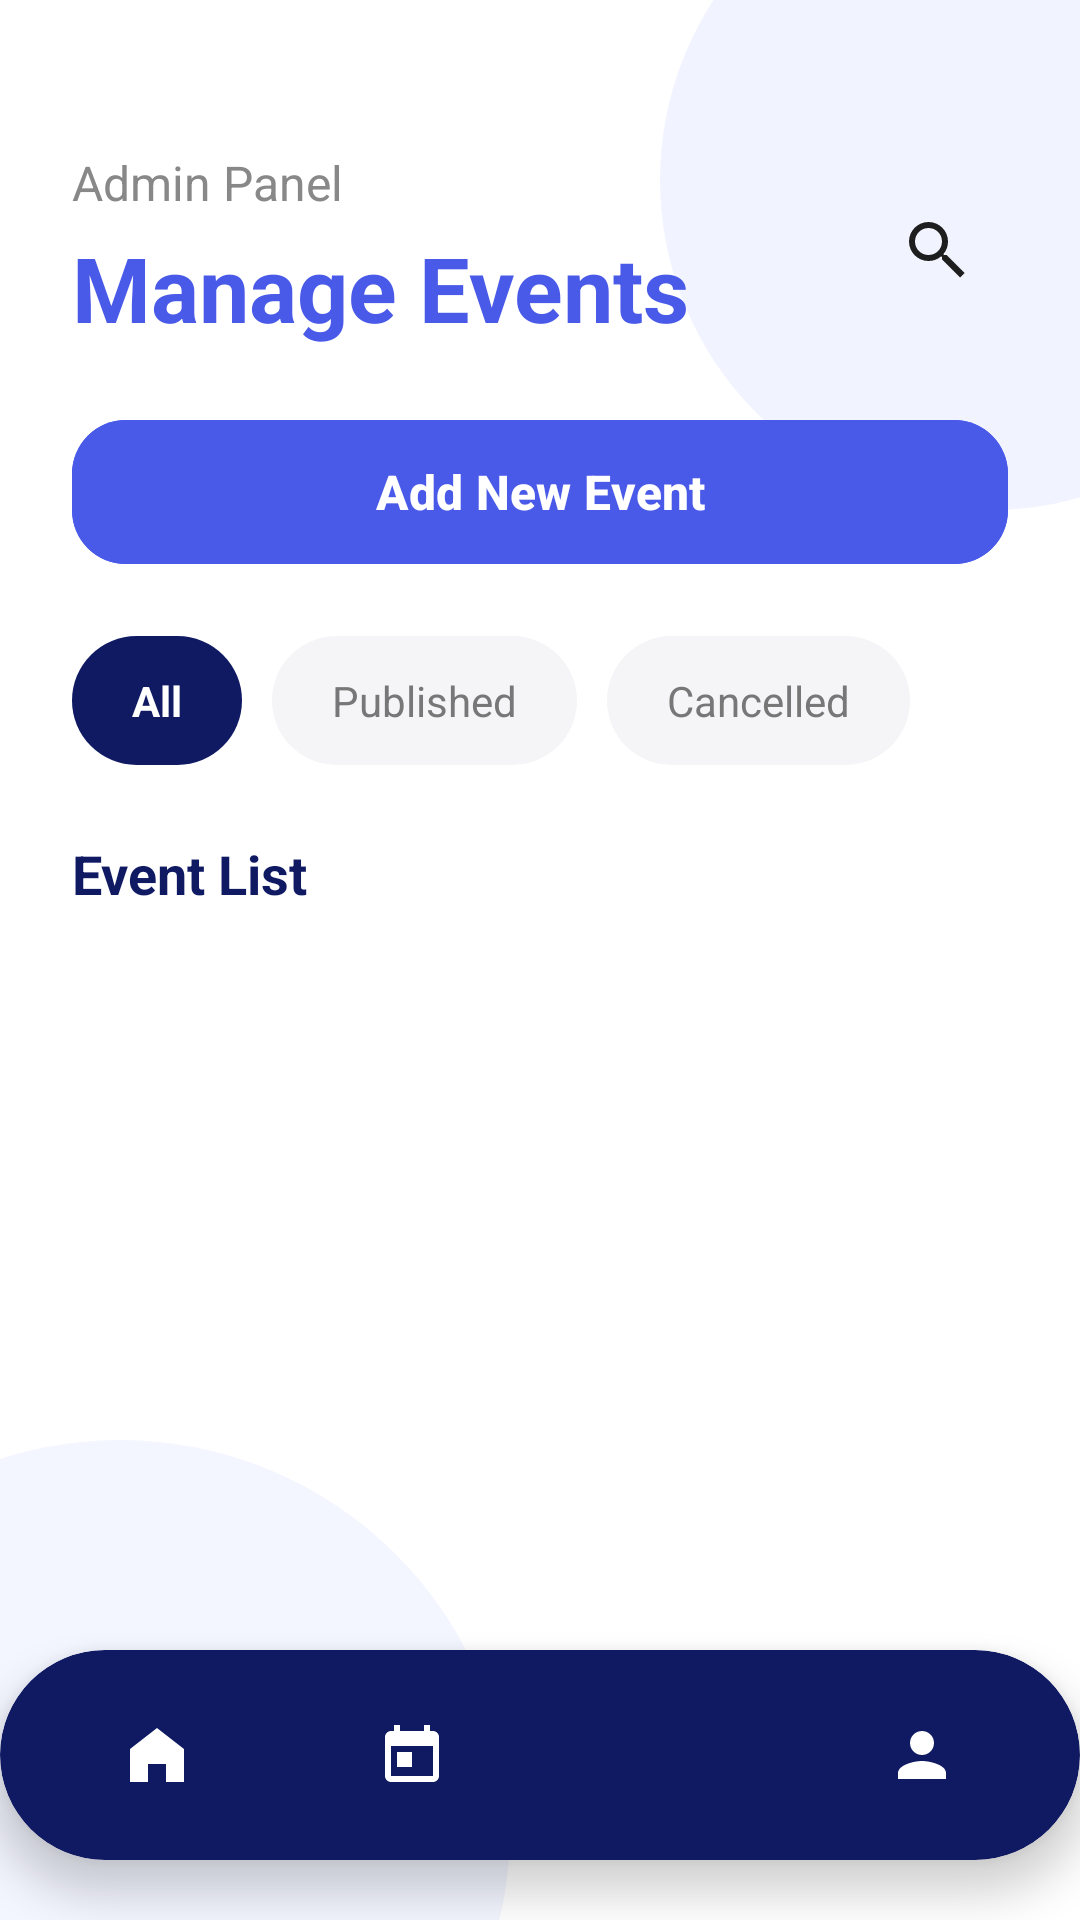

Point at icon controls on the screen. Image size 1080 × 1920, points as point (x, y).
Home: point (157, 1755)
Profile: point (922, 1755)
Registered Events: point (412, 1753)
Search: point (937, 250)
